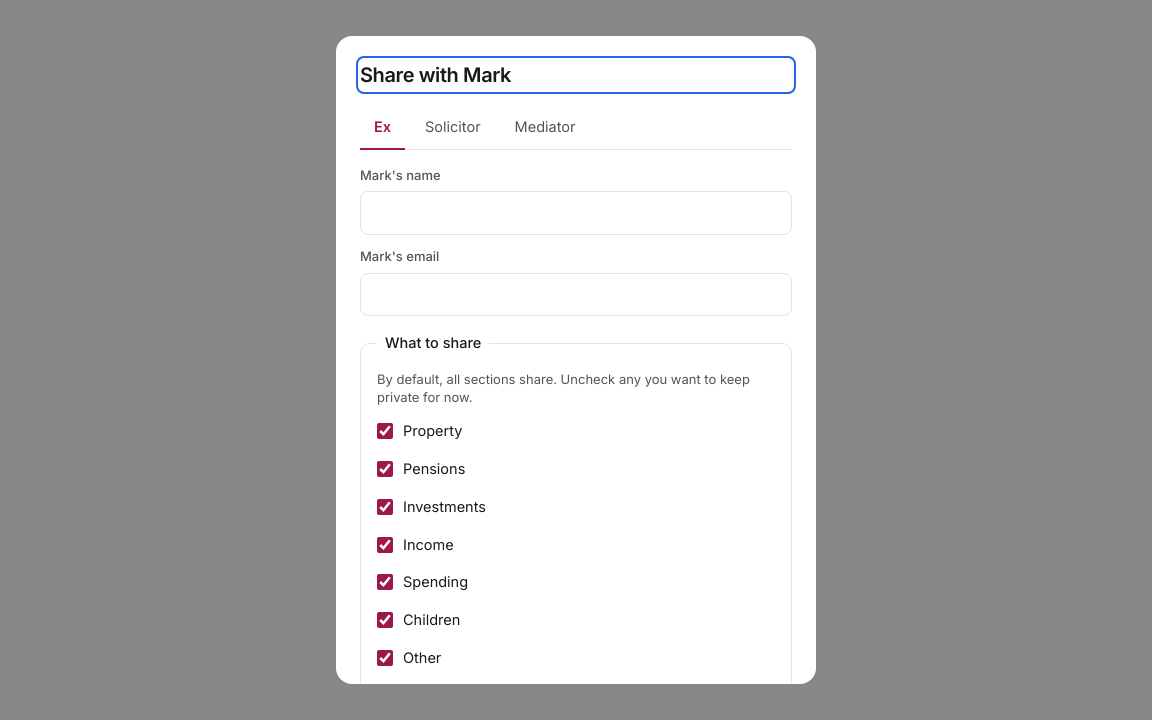
Test: ShareModal › renders Mediator panel with TBD placeholder (AC-3)
Click the tab "Mediator": [545, 128] box top-left (501, 106), bottom-right (589, 150)
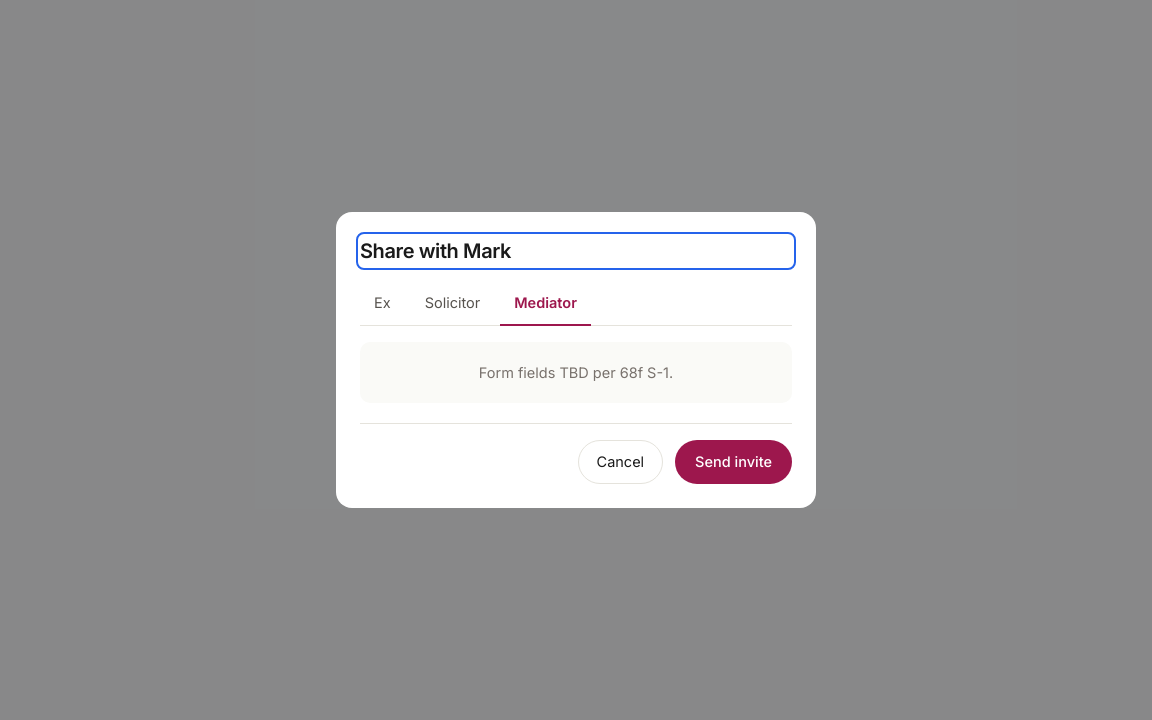
Check: the text "Form fields TBD per 68f S-1." is shown, box top-left (360, 342), bottom-right (792, 403)
